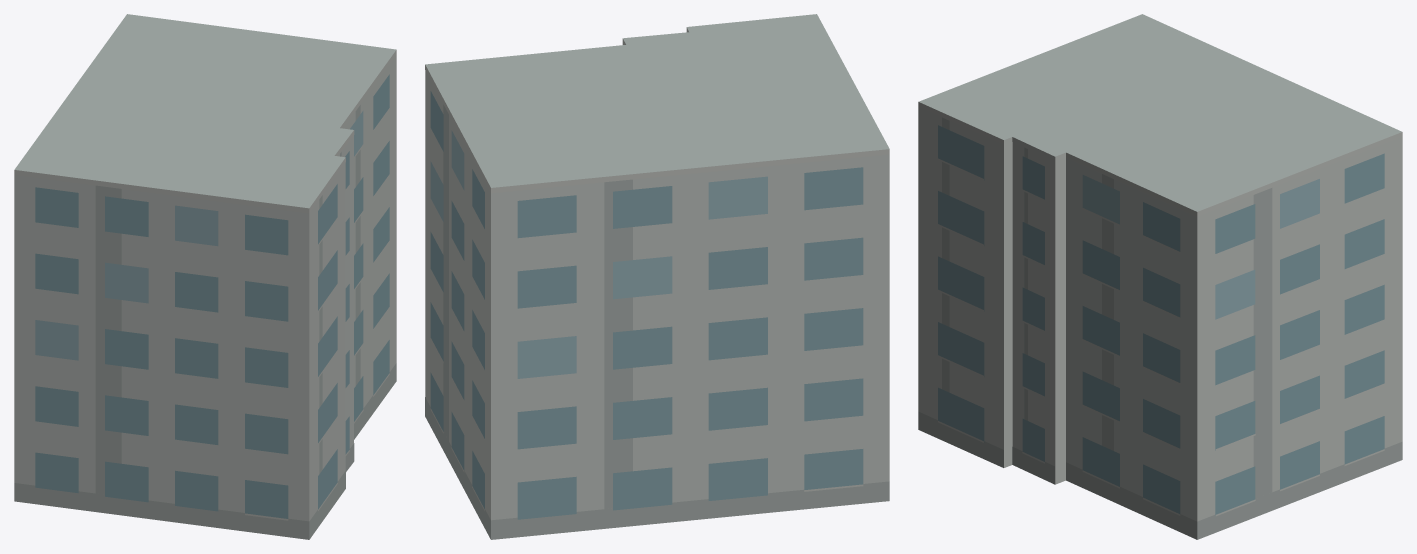
The model's file is survey-upis-32834503.glb.
3 views of the same model, side by side, from view 1: azimuth 30°, elevation 25°; view 2: azimuth 150°, elevation 25°; view 3: azimuth 270°, elevation 25° (orthographic). The views are drawn at different scales.
Visible parts, largest first — view 1: survey-upis-32834503.tmp; view 2: survey-upis-32834503.tmp; view 3: survey-upis-32834503.tmp.
Boxes of the visible parts, x1,y1,x2,y2 form: survey-upis-32834503.tmp: (14, 14, 396, 539); survey-upis-32834503.tmp: (425, 14, 889, 539); survey-upis-32834503.tmp: (918, 14, 1402, 539).
Size of the model in its own units: 20.71 by 16 by 21.41.
